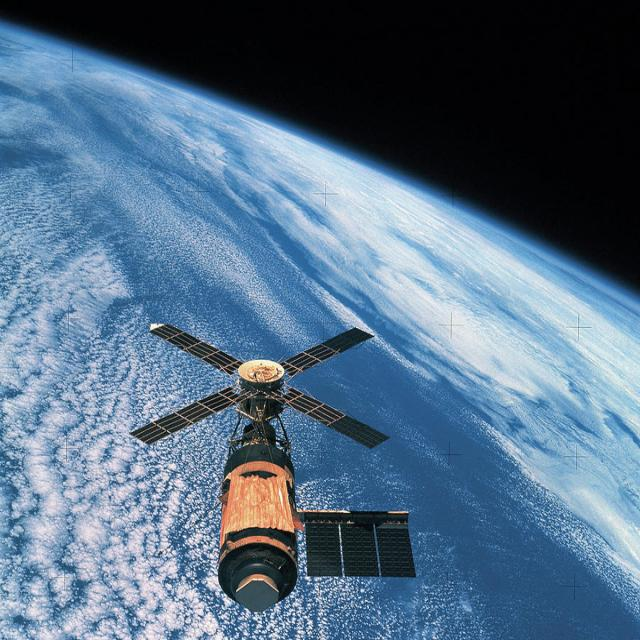medium_debris: (126, 307, 433, 617)
